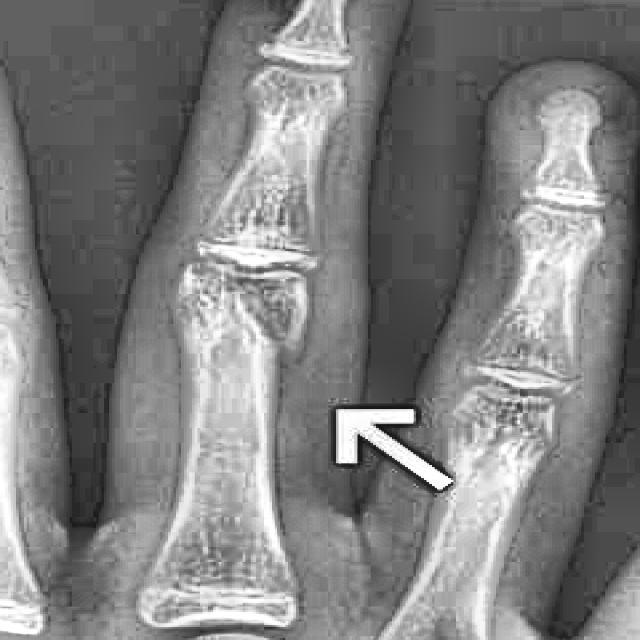fracture: (229, 300, 299, 364)
